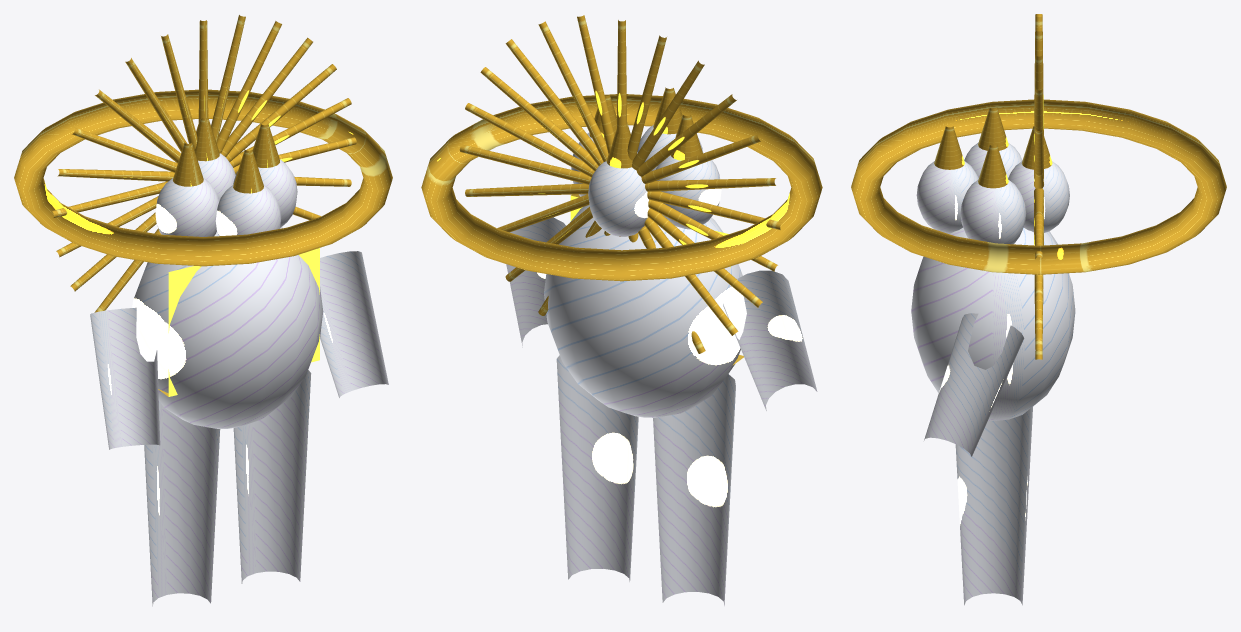
The model's file is boss_brahma_avatara.glb.
3 views of the same model, side by side, from view 1: azimuth 30°, elevation 25°; view 2: azimuth 150°, elevation 25°; view 3: azimuth 270°, elevation 25° (orthographic). The views are drawn at different scales.
Visible parts, largest first — view 1: Node_BossBrahmaAvatara; view 2: Node_BossBrahmaAvatara; view 3: Node_BossBrahmaAvatara.
Part boxes in pixels (x1,y1,x2,y2): Node_BossBrahmaAvatara: (14,15,392,606); Node_BossBrahmaAvatara: (421,15,822,605); Node_BossBrahmaAvatara: (851,14,1226,605).
Size of the model in its own units: 2.06 by 3.35 by 2.06.
Materials: 2 (2 with a texture image).
